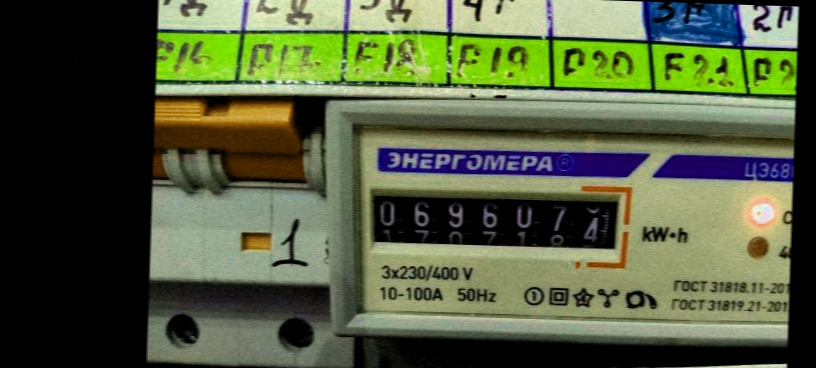0: (378, 197, 398, 227), (514, 201, 534, 228)
4: (582, 215, 601, 243)
6: (481, 199, 500, 228), (412, 199, 431, 227)
7: (549, 202, 569, 232)
9: (446, 200, 465, 229)
screen: (356, 173, 638, 270)
